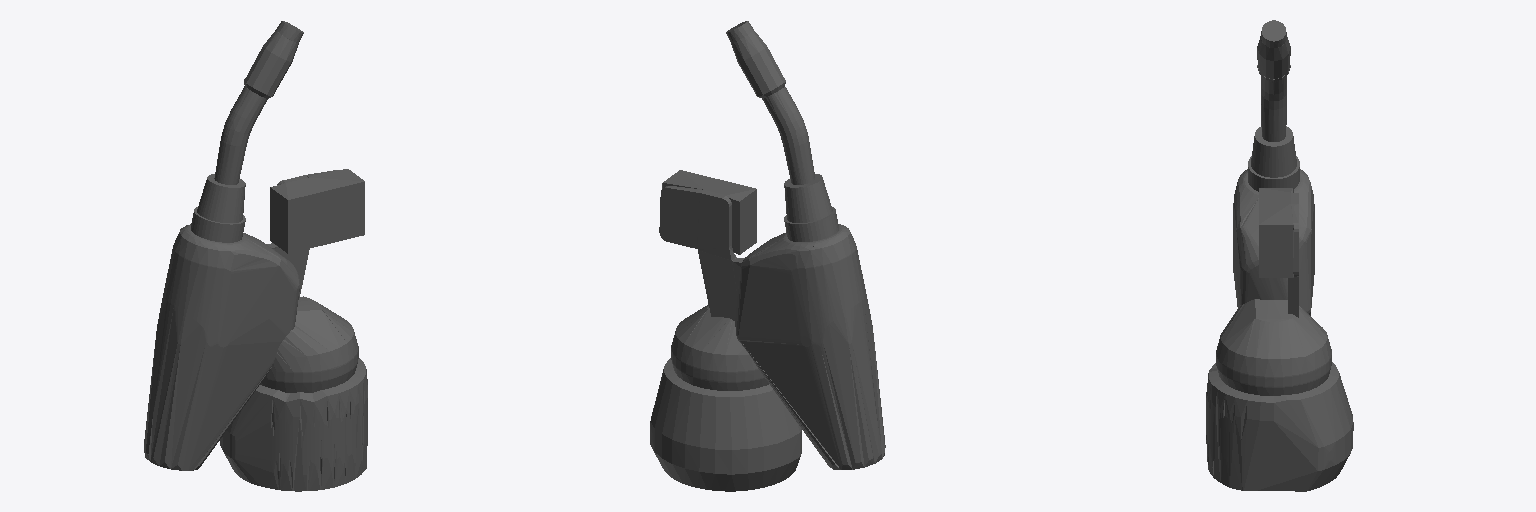
URDF robot description (waam_welding_tool):
<?xml version="1.0" ?>
<robot name="waam_welding_tool" xmlns:xacro="http://wiki.ros.org/xacro">

  <link name="eef_base_link">
    <visual>
      <geometry>
        <mesh filename="package://waam_setup/meshes/visual/waam_tool.stl" scale="0.5 0.5 0.5"/>
      </geometry>
      <material name="">
        <color rgba="0.42 0.42 0.42 1.0"/>
      </material>
    </visual>
    <collision>
      <geometry>
        <mesh filename="package://waam_setup/meshes/collision_pybullet/waam_tool.obj" scale="0.5 0.5 0.5"/>
      </geometry>
    </collision>
  </link>
  <link name="tool_link"/>
  <!-- end of link list -->

  <!-- joint list -->
  <joint name="eef_base_to_tcp" type="fixed">
    <!-- caliberated TCP value here! -->
    <!-- <origin rpy="0.001110 0.591366 0" xyz="-0.002241 -0.000202 0.505922"/> -->
    <!-- *0.5 version, keep the rpy, only scale the xyz -->
    <origin rpy="0.001110 0.591366 0" xyz="-0.00112 -0.000101 0.25296"/>
    <parent link="eef_base_link"/>
    <child link="tool_link"/>
  </joint>

</robot>

--- Render facts (derived) ---
3 views of the same robot in one strip: view 1: azimuth 30°, elevation 25°; view 2: azimuth 150°, elevation 25°; view 3: azimuth 270°, elevation 25° (orthographic).
Model waam_welding_tool with 2 links and 1 joints (1 fixed), rooted at eef_base_link, posed every joint at zero.
Visible links, largest first — view 1: eef_base_link; view 2: eef_base_link; view 3: eef_base_link.
Boxes of the visible links, x1,y1,x2,y2 form: eef_base_link: (144,21,367,491); eef_base_link: (650,21,885,491); eef_base_link: (1206,20,1353,491).
Size in the robot's own frame: 0.1254 by 0.0766 by 0.2519 metres.
Meshes: 1 distinct files referenced, 1 mesh visuals loaded (1 binary STL).